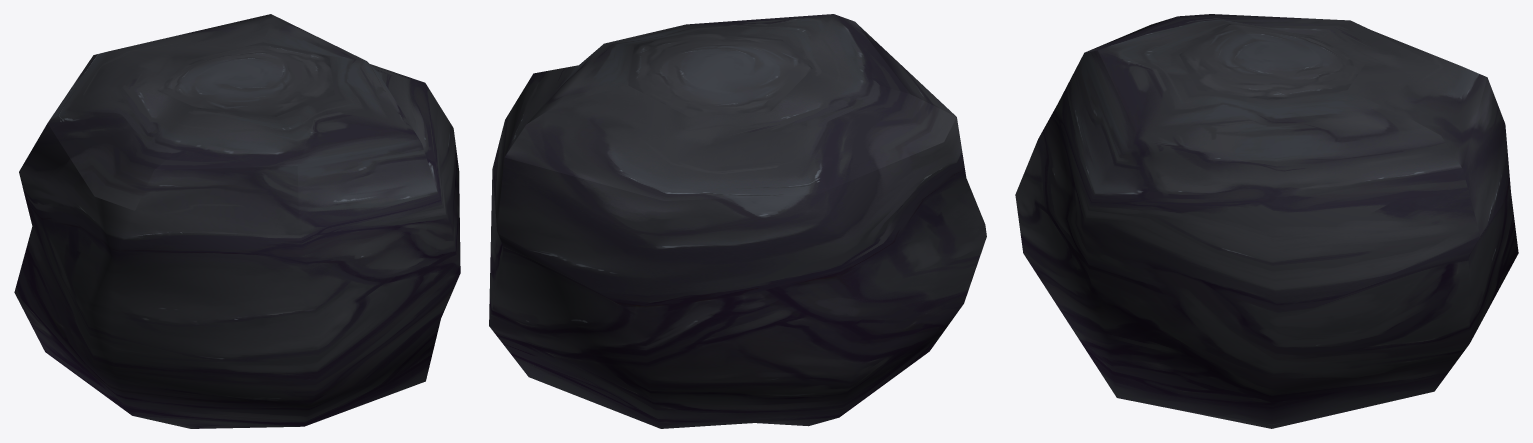
Rendered from relic_DYN_brokenPillarChunk.fbx.
3 views of the same model, side by side, from view 1: azimuth 30°, elevation 25°; view 2: azimuth 150°, elevation 25°; view 3: azimuth 270°, elevation 25° (orthographic). The views are drawn at different scales.
Visible parts, largest first — view 1: pCylinder1; view 2: pCylinder1; view 3: pCylinder1.
Part boxes in pixels (x1,y1,x2,y2): pCylinder1: (14,14,460,428); pCylinder1: (489,14,986,428); pCylinder1: (1015,14,1518,428).
Bounding box in the file's own units: 94.32 × 68.76 × 93.16.
